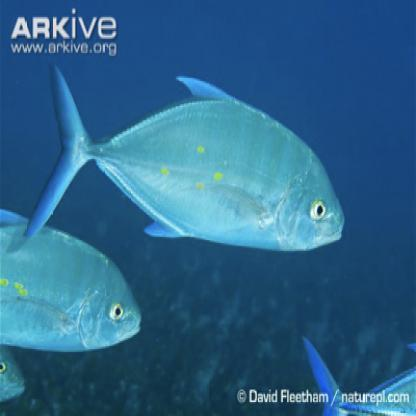Bio: (18, 47, 348, 260), (0, 202, 147, 348)
